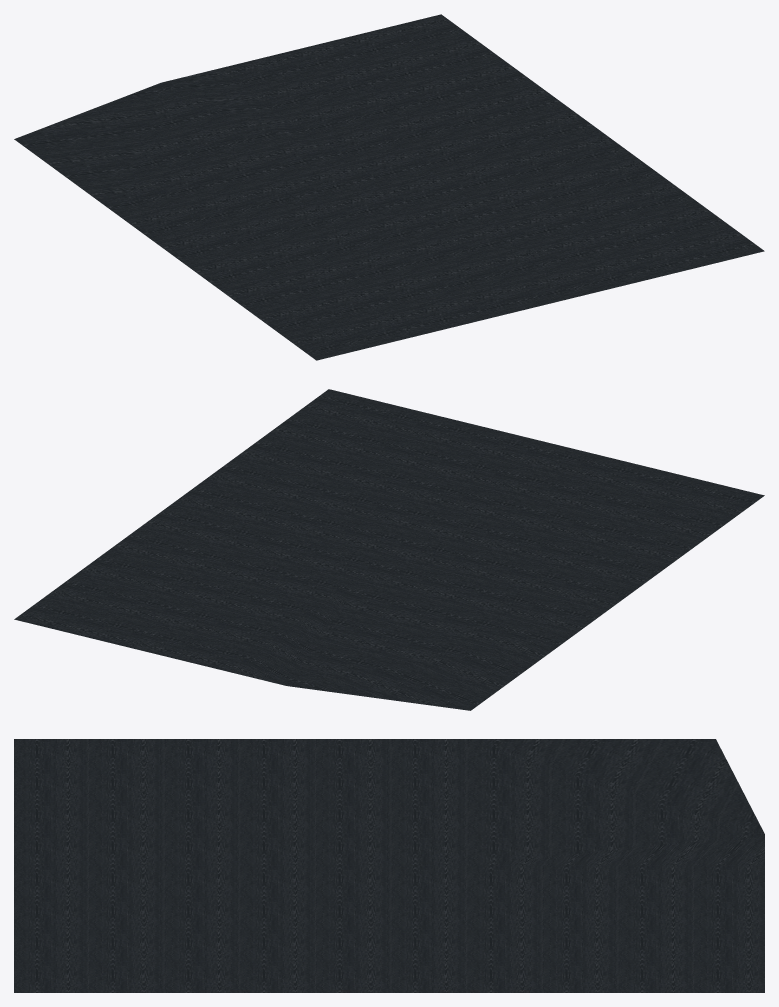
File: GYM_Ceiling_9.fbx
3 renders of one model, top to bottom at view 1: azimuth 30°, elevation 25°; view 2: azimuth 150°, elevation 25°; view 3: azimuth 270°, elevation 25°, orthographic. The views are drawn at different scales.
Parts seen in each view (by area): view 1: GYM_Ceiling_Panel_9; view 2: GYM_Ceiling_Panel_9; view 3: GYM_Ceiling_Panel_9.
Part boxes in pixels (<box>): GYM_Ceiling_Panel_9: <box>14,14,764,360</box>; GYM_Ceiling_Panel_9: <box>14,389,764,710</box>; GYM_Ceiling_Panel_9: <box>14,739,764,992</box>.
Bounding box in the file's own units: 4 × 4.44e-16 × 5.
Materials: 1 (1 with a texture image).
